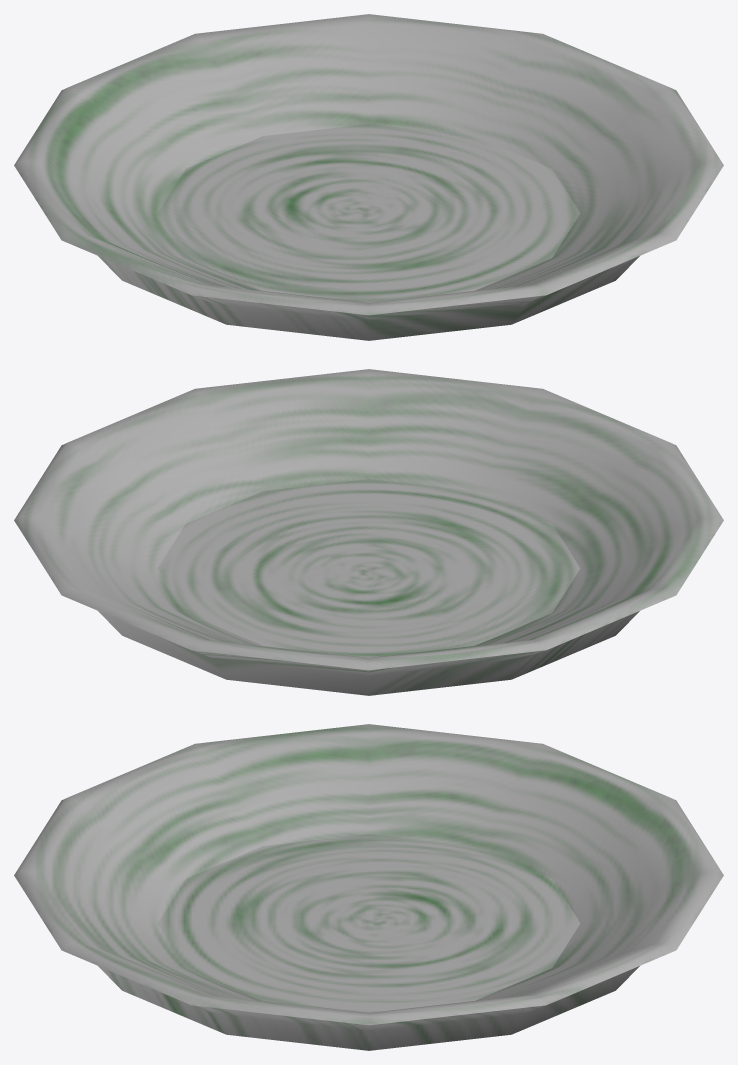
The model's file is Coffee_saucer.glb.
3 views of the same model, one above another, from view 1: azimuth 30°, elevation 25°; view 2: azimuth 150°, elevation 25°; view 3: azimuth 270°, elevation 25° (orthographic).
Visible parts, largest first — view 1: Plate_misc_0; view 2: Plate_misc_0; view 3: Plate_misc_0.
Boxes of the visible parts, x1=… form: Plate_misc_0: x1=14, y1=14, x2=723, y2=340; Plate_misc_0: x1=14, y1=369, x2=723, y2=695; Plate_misc_0: x1=14, y1=724, x2=723, y2=1050.
Size of the model in its own units: 0.1991 by 0.0183 by 0.1991.
Materials: 1 (1 with a texture image).
